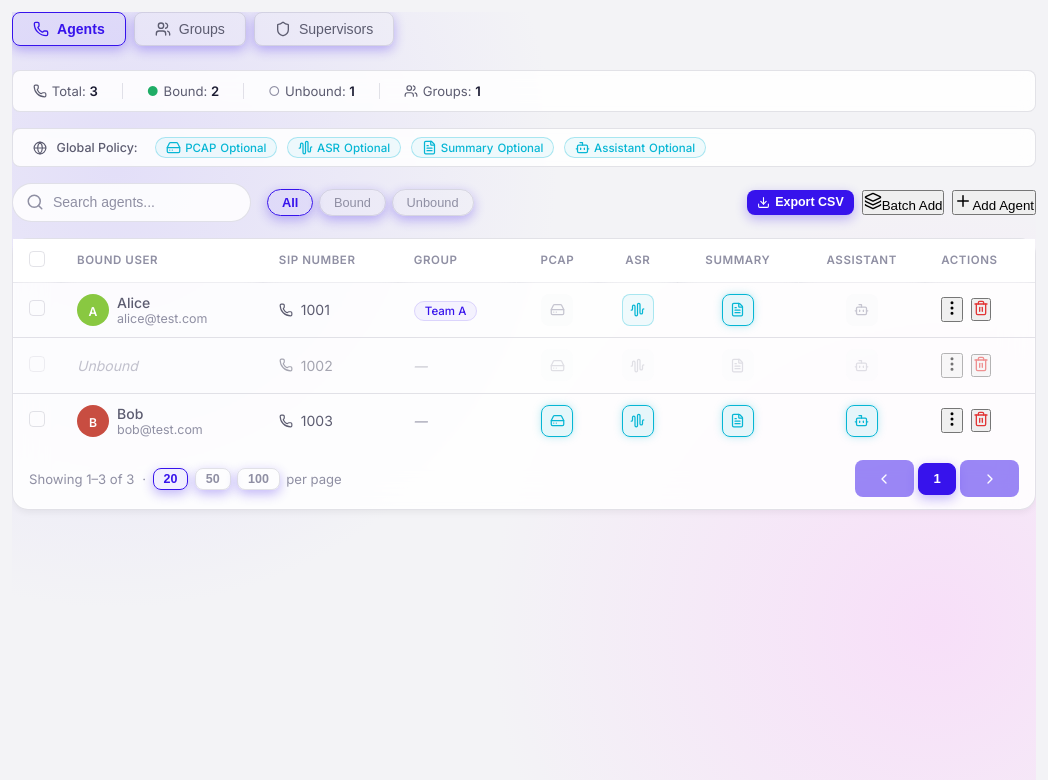
Test: Agents Page › should filter by bound status when clicking Bound chip
Expected: the text "1001" is shown, [279,302,330,318]
Click the button "Bound".
click(352, 202)  # box [319,189,386,216]
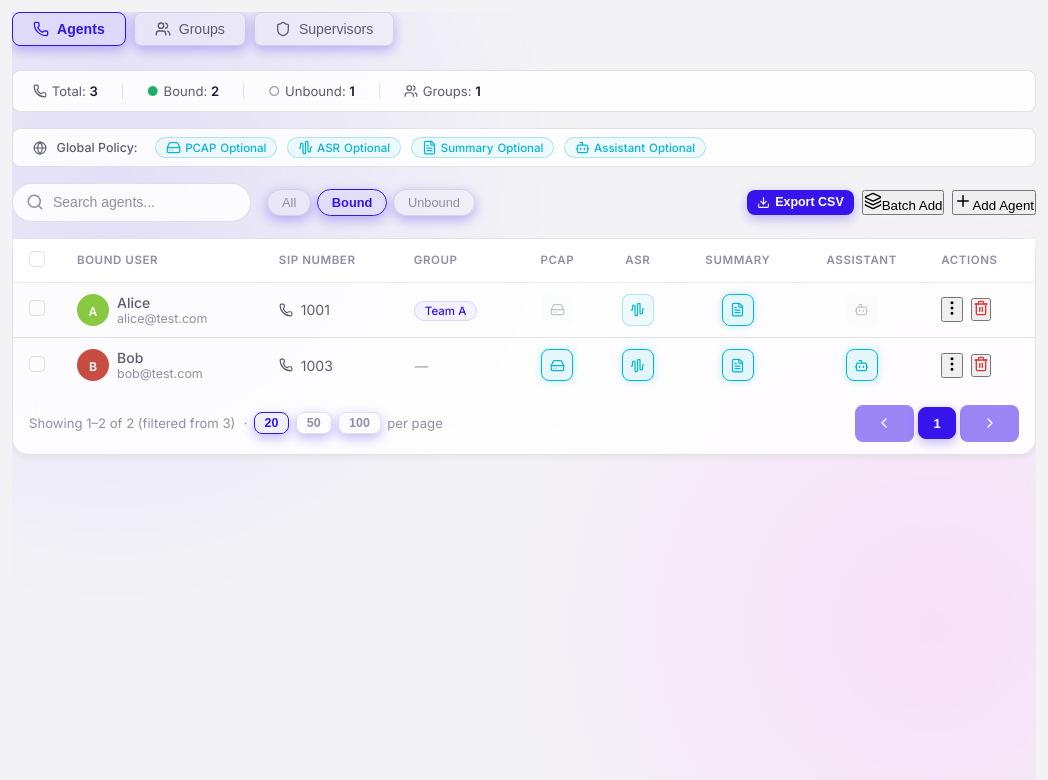
Expected: the text "Alice" is shown, [117,294,150,311]
Result: the text "1002" is gone
